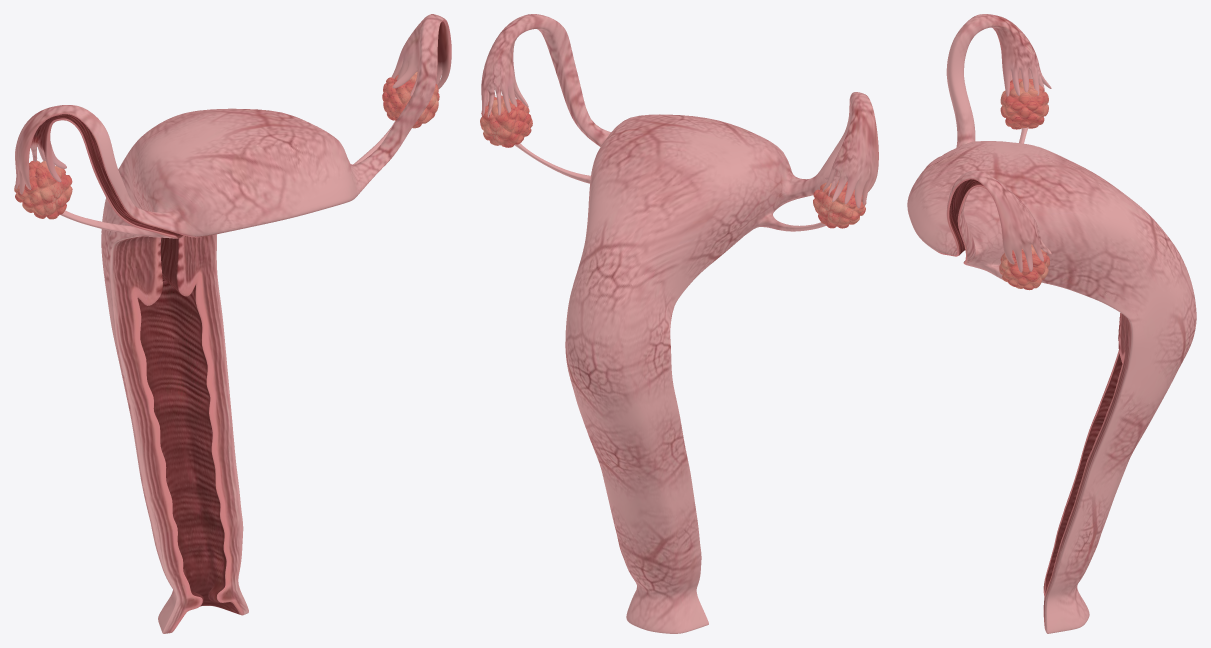
The picture shows the model from 3 angles, left to right: view 1: azimuth 30°, elevation 25°; view 2: azimuth 150°, elevation 25°; view 3: azimuth 270°, elevation 25°; orthographic projection. The views are drawn at different scales.
Parts seen in each view (by area): view 1: Object_4, Object_2, Object_3; view 2: Object_4, Object_3, Object_2; view 3: Object_4, Object_2, Object_3.
Part boxes in pixels (bbox=[...]): Object_4: bbox=[15, 14, 451, 633]; Object_2: bbox=[14, 160, 72, 219]; Object_3: bbox=[382, 72, 439, 128]; Object_4: bbox=[481, 14, 878, 633]; Object_3: bbox=[480, 95, 532, 147]; Object_2: bbox=[813, 180, 866, 228]; Object_4: bbox=[907, 14, 1196, 633]; Object_2: bbox=[1000, 78, 1048, 129]; Object_3: bbox=[999, 244, 1049, 290].
Size of the model in its own units: 4.4 by 5.76 by 2.88.
Materials: 2 (2 with a texture image).
